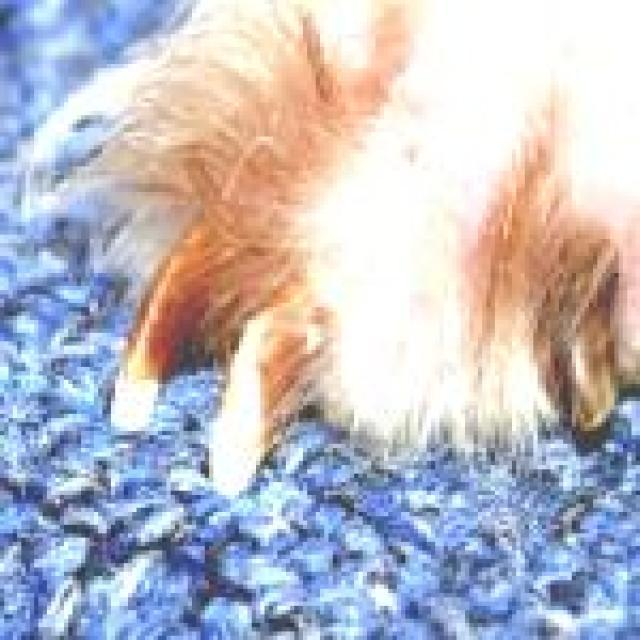fungal infection: (122, 164, 240, 371), (518, 229, 618, 335)
